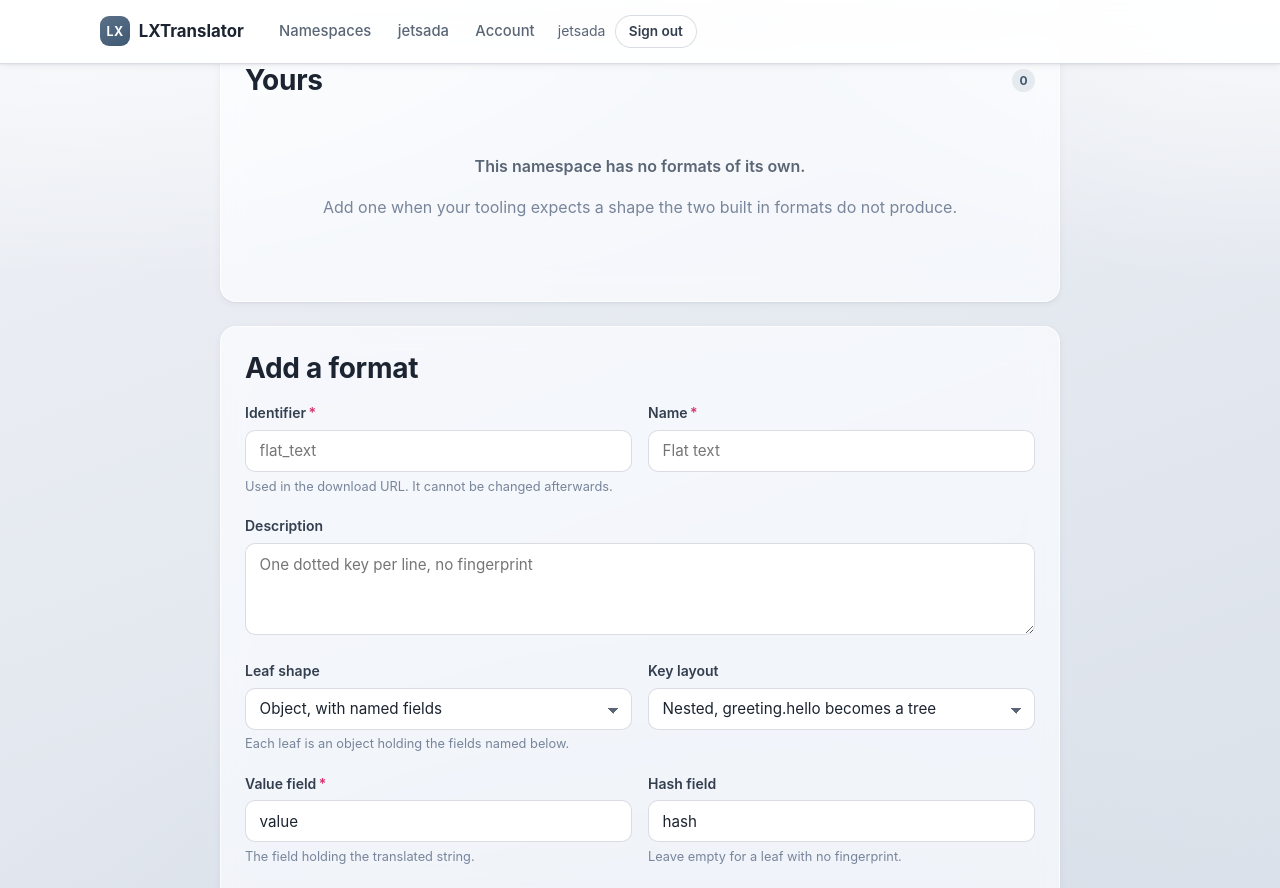
Test: export formats › managing them › refuses a built in identifier before sending anything
The image size is (1280, 888).
(page scrolled)
Type "default" into the field labelled "Identifier*" at (438,451), box x1=245 y1=430 x2=632 y2=472
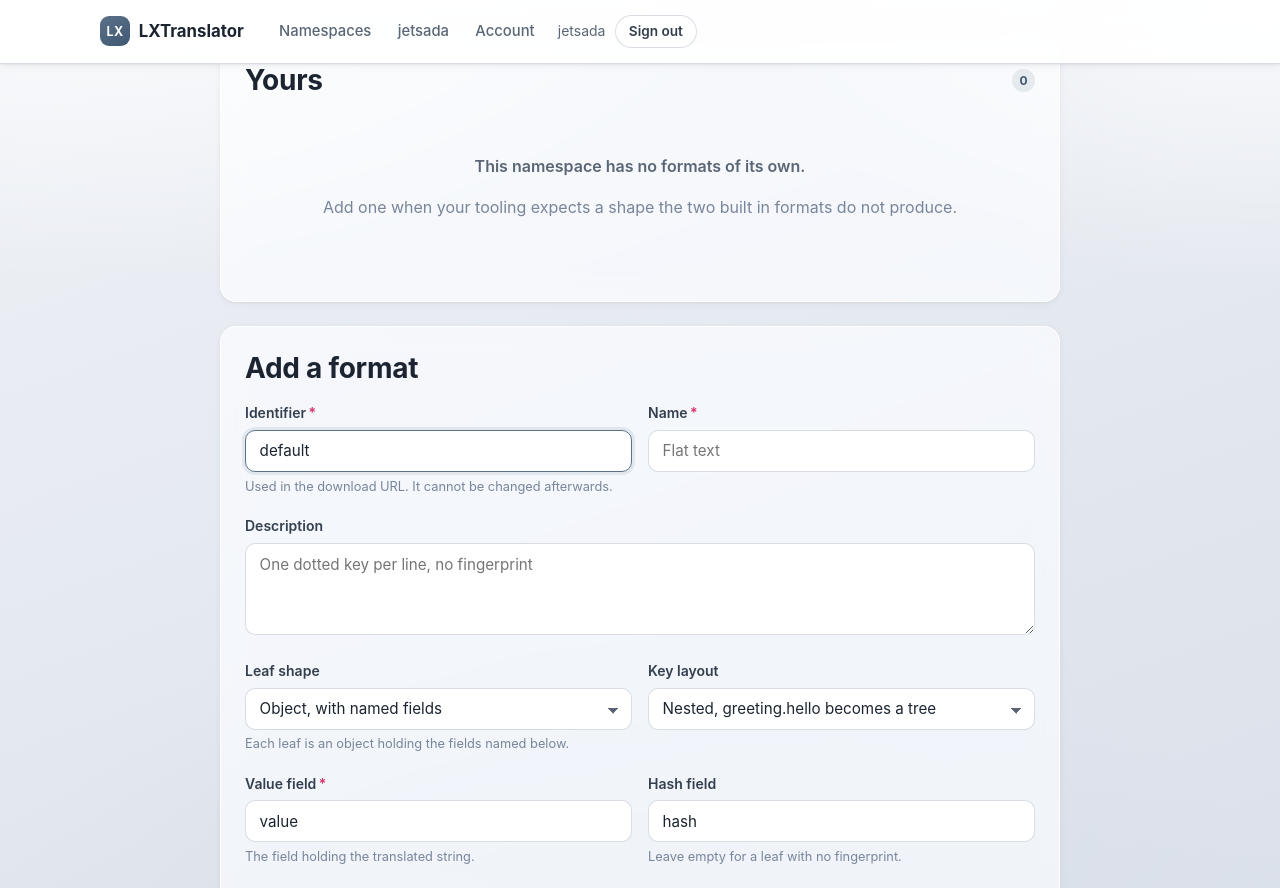
Type "Mine" into the field labelled "Name*" at (842,451), box x1=648 y1=430 x2=1035 y2=472
(page scrolled)
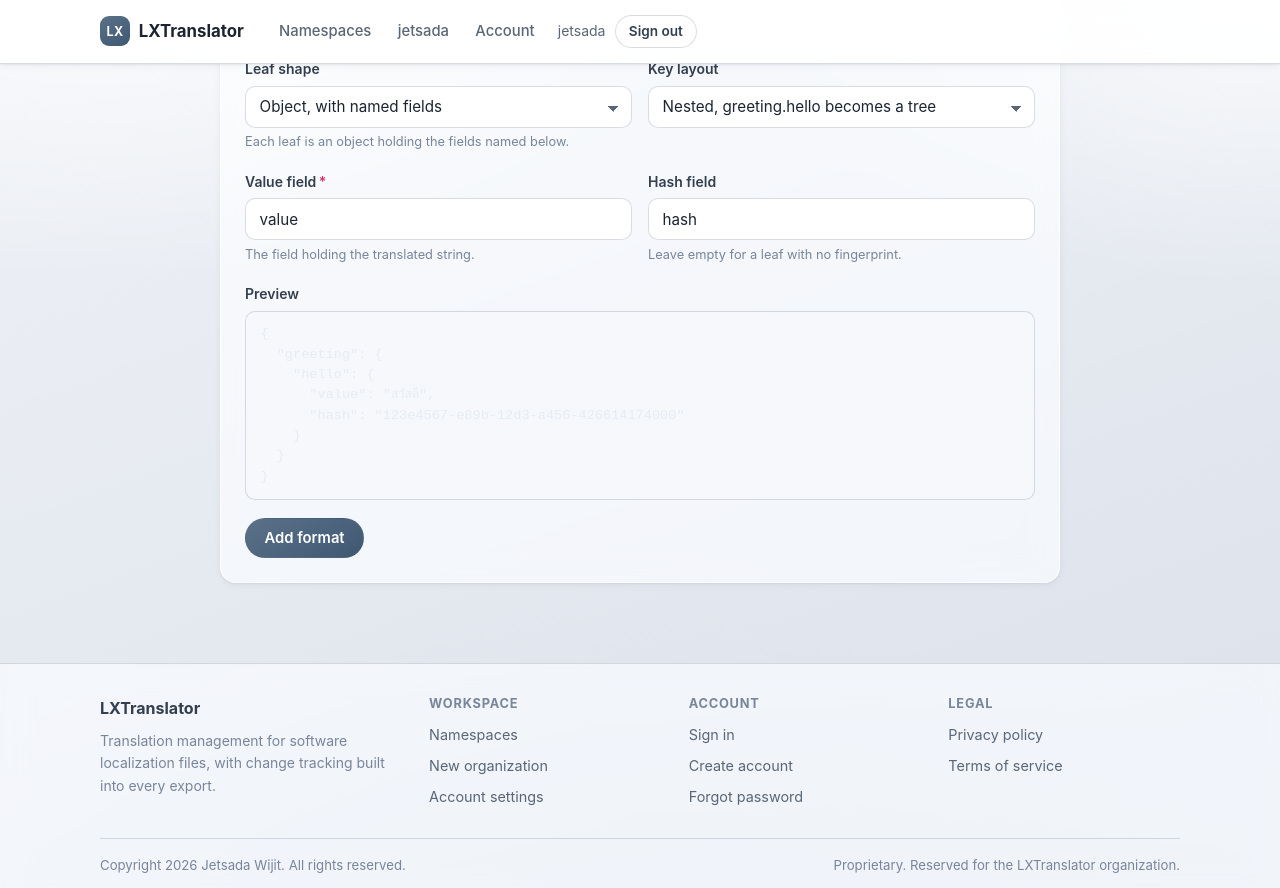
Click the button "Add format" at (304,538), box x1=245 y1=518 x2=364 y2=558
(page scrolled)
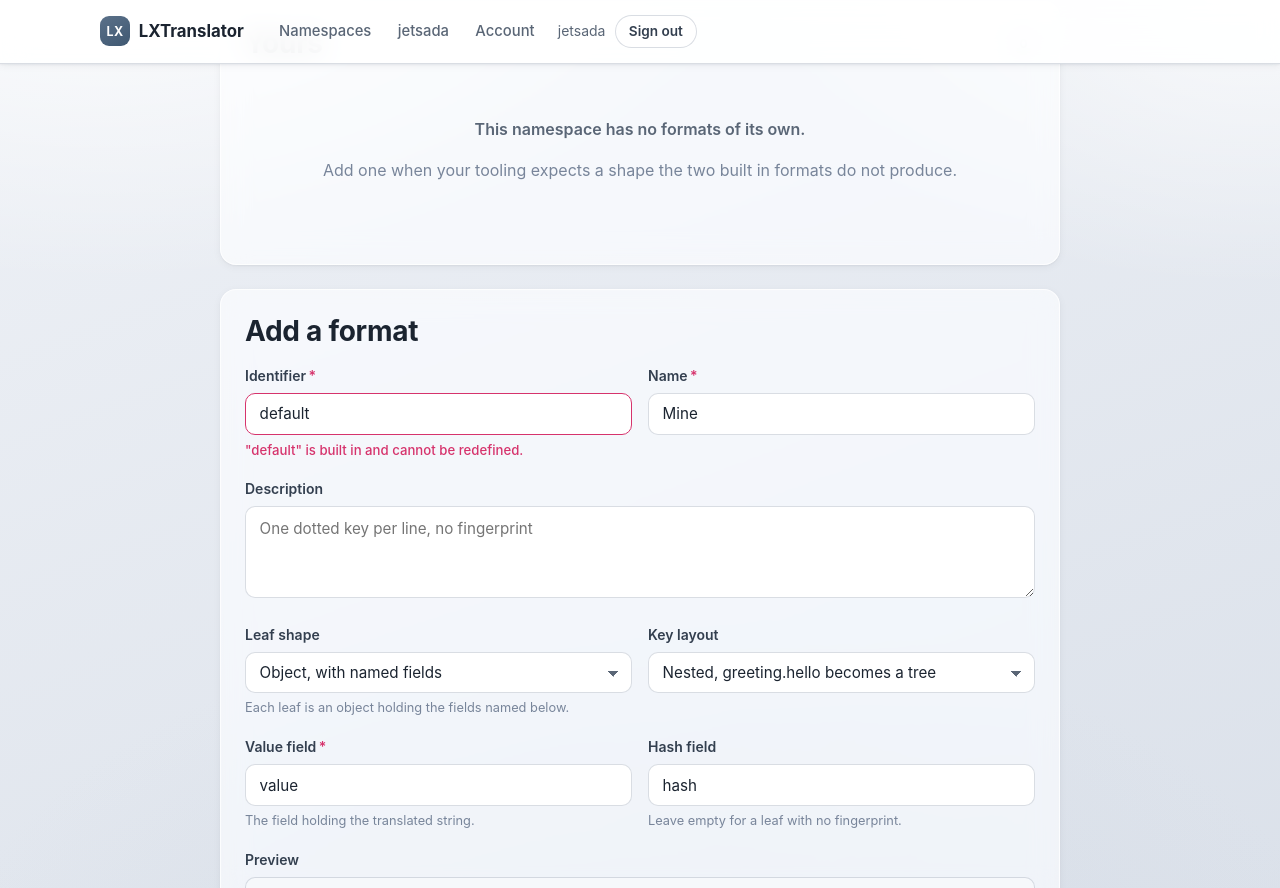
Expected: the text "\"default\" is built in and cannot be redefined." is shown, x1=245 y1=442 x2=523 y2=458
